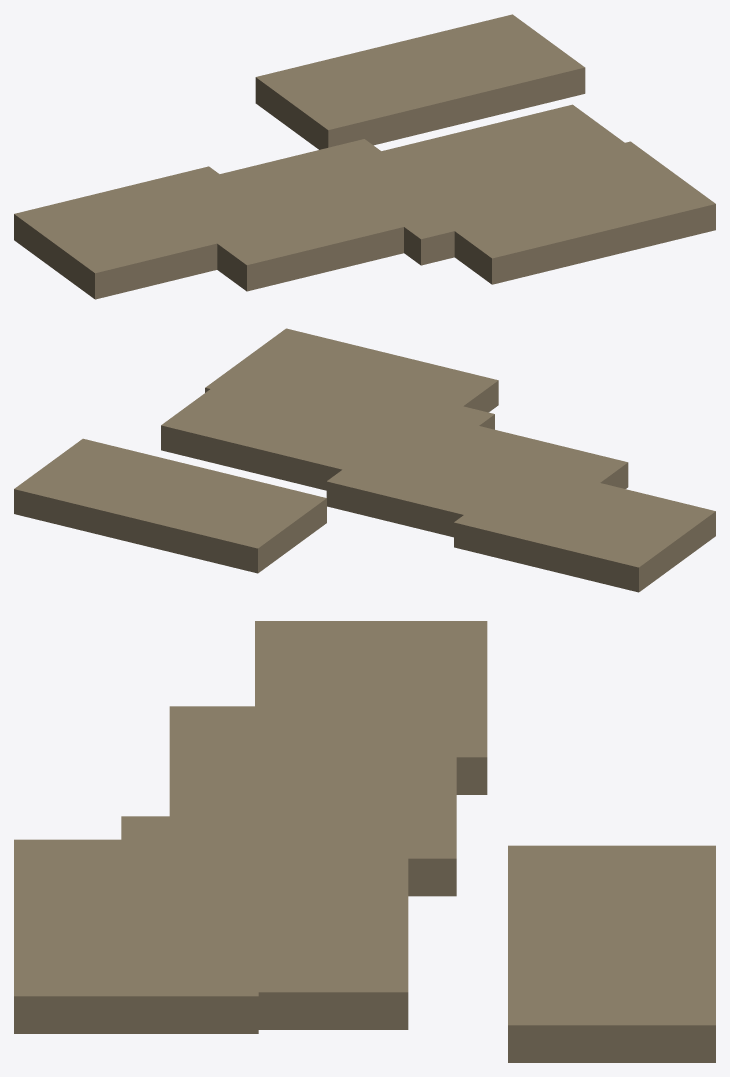
The model's file is leaf_litter_v0_far.gltf.
The picture shows the model from 3 angles, top to bottom: view 1: azimuth 30°, elevation 25°; view 2: azimuth 150°, elevation 25°; view 3: azimuth 270°, elevation 25°; orthographic projection. The views are drawn at different scales.
Parts seen in each view (by area): view 1: cover; view 2: cover; view 3: cover.
Part boxes in pixels (x1,y1,x2,y2): cover: [14, 14, 715, 299]; cover: [14, 328, 715, 592]; cover: [14, 621, 715, 1062].
Bounding box in the file's own units: 0.4605 × 0.02 × 0.3379.
